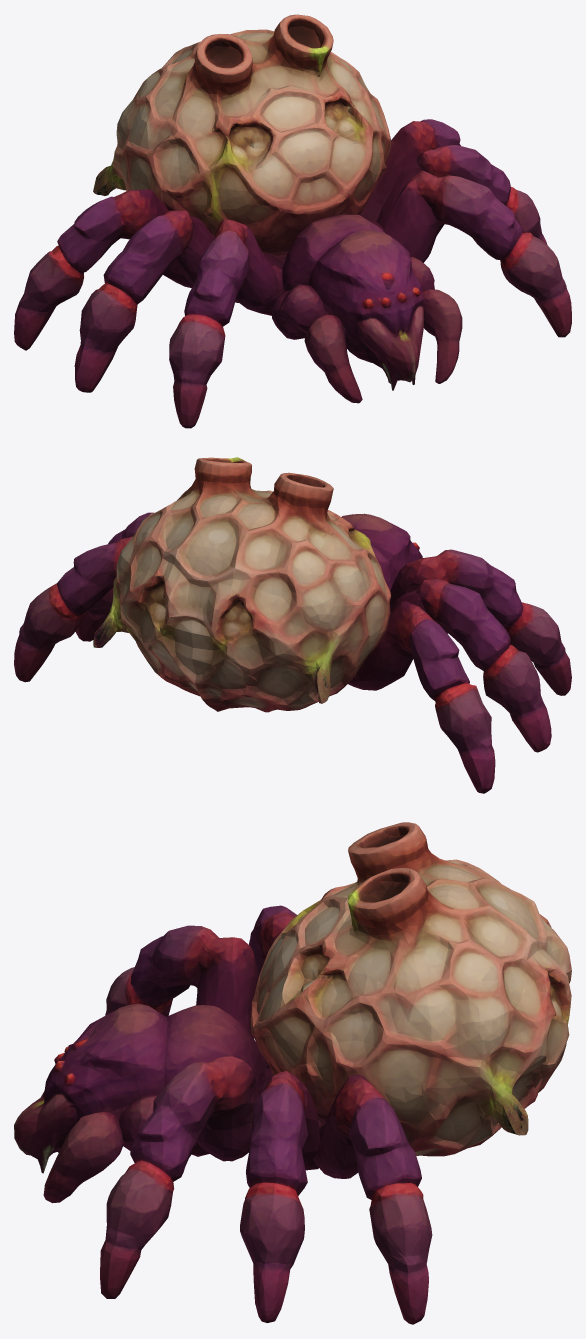
File: trellis-1.glb
3 renders of one model, top to bottom at view 1: azimuth 30°, elevation 25°; view 2: azimuth 150°, elevation 25°; view 3: azimuth 270°, elevation 25°, orthographic. The views are drawn at different scales.
Visible parts, largest first — view 1: world; view 2: world; view 3: world.
Boxes of the visible parts, left/top/right/bottom form: world: left=14, top=14, right=571, bottom=428; world: left=14, top=457, right=571, bottom=793; world: left=14, top=822, right=571, bottom=1324.
Size of the model in its own units: 0.9985 by 0.5352 by 0.809.
Materials: 1 (1 with a texture image).
